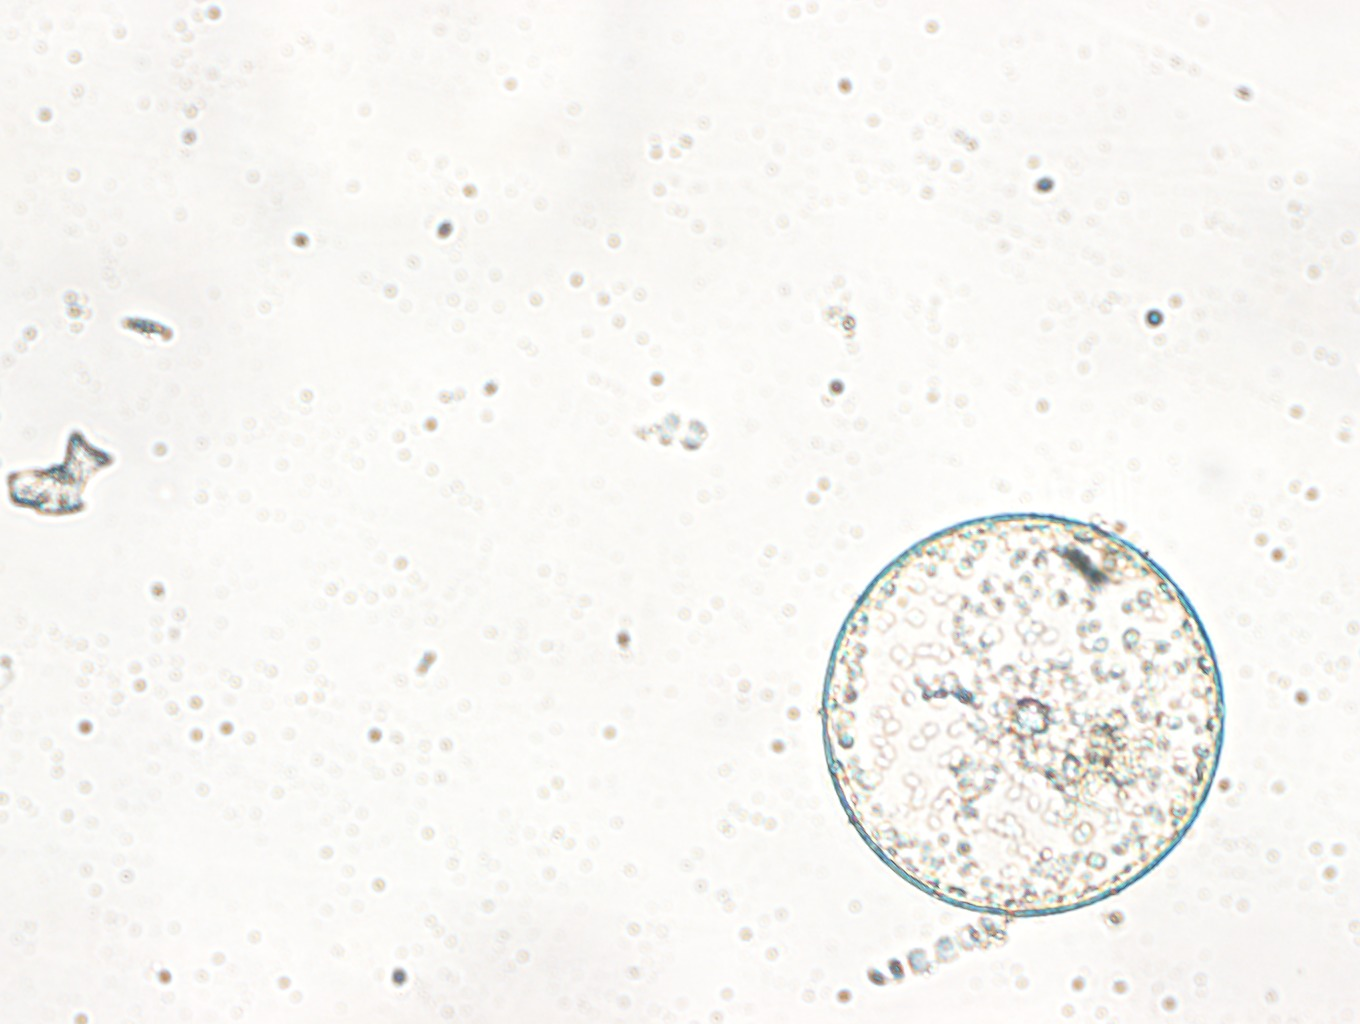coscinodiscus: (812, 500, 1234, 919)
